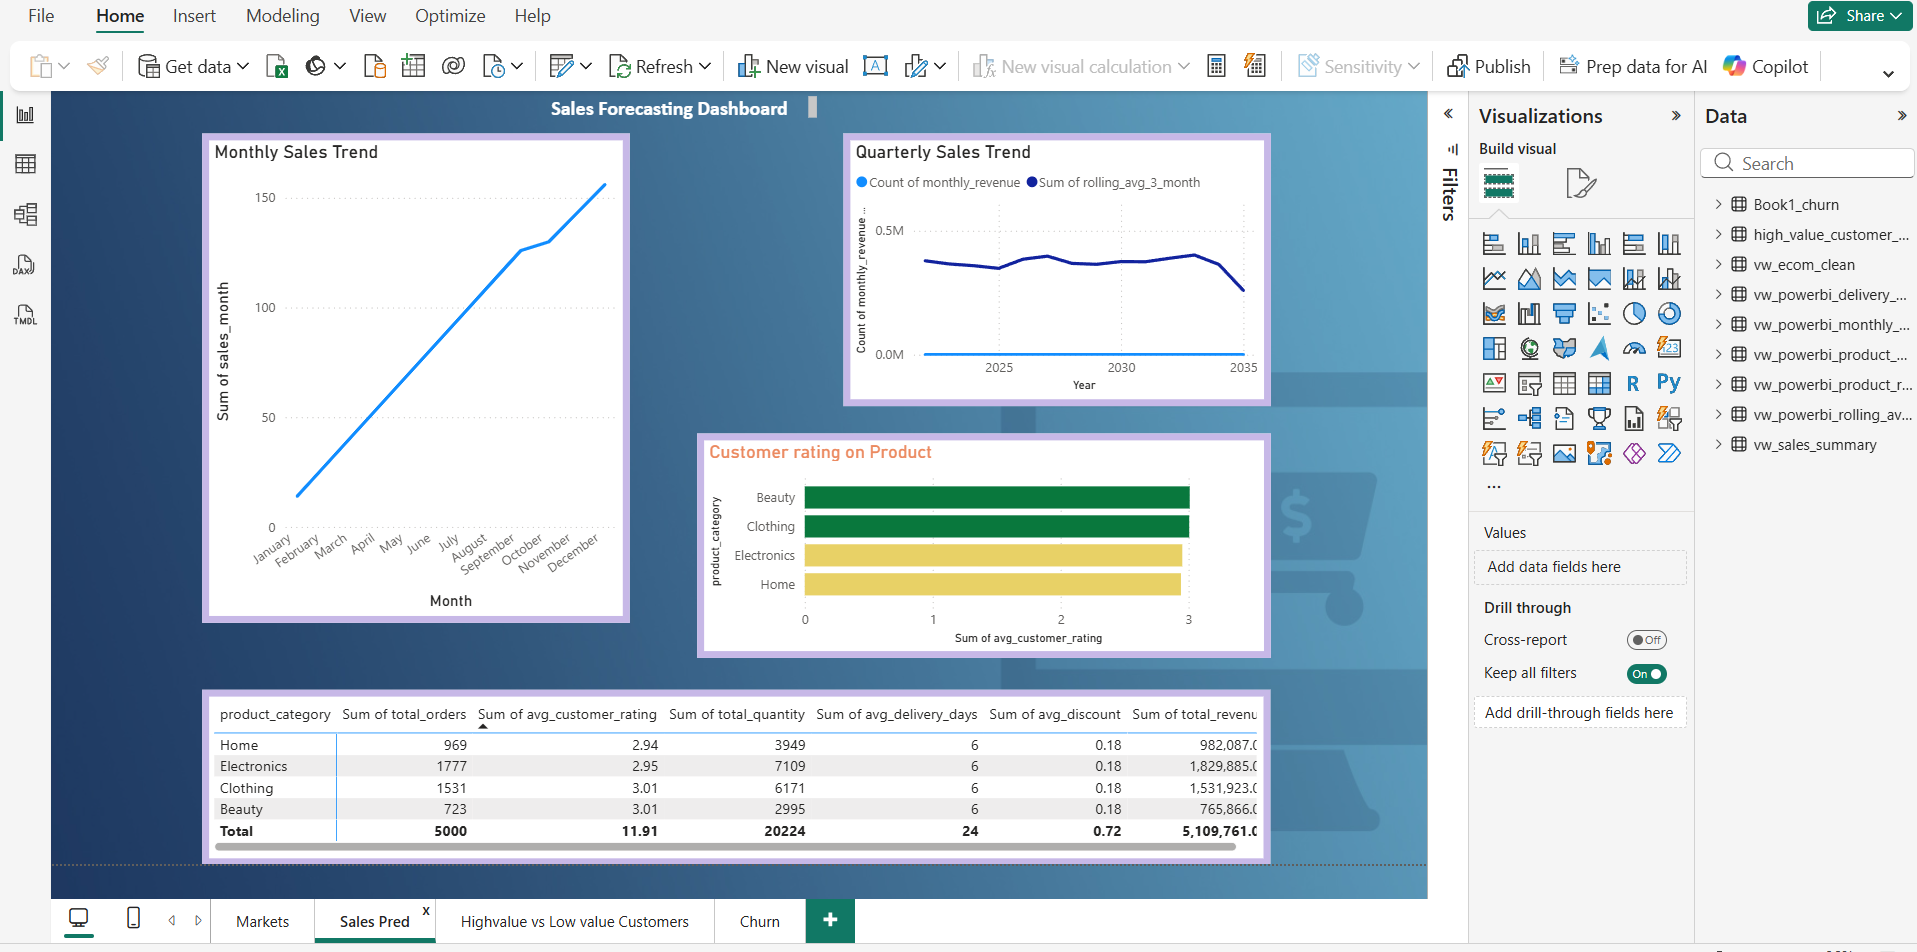

The dashboard page shown, as its layout file describes it:
{"tool":"powerbi","page":{"name":"Sales Pred","canvas":[1280,720],"ordinal":1},"visuals":[{"type":"lineChart","title":"Monthly Sales Trend","fields":{"Category":["vw_powerbi_monthly_revenue.month_start_date.Variation.Date Hierarchy.Month"],"Y":["Sum(vw_powerbi_monthly_revenue.sales_month)"]},"box":[141.1,40,397.8,455.6],"z":0},{"type":"lineChart","title":"Quarterly Sales Trend","fields":{"Category":["vw_powerbi_rolling_average.month_start_date.Variation.Date Hierarchy.Year"],"Y":["CountNonNull(vw_powerbi_rolling_average.monthly_revenue)","Sum(vw_powerbi_rolling_average.rolling_avg_3_month)"]},"box":[736.7,40,397.8,253.3],"z":1000},{"type":"clusteredBarChart","title":"Customer rating on Product","fields":{"Category":["vw_powerbi_product_rating.product_category"],"Y":["Sum(vw_powerbi_product_rating.avg_customer_rating)"]},"box":[601.1,318.9,533.3,208.9],"z":2000},{"type":"pivotTable","fields":{"Rows":["vw_powerbi_product_performance.product_category"],"Values":["Sum(vw_powerbi_product_performance.total_orders)","Sum(vw_powerbi_product_performance.avg_customer_rating)","Sum(vw_powerbi_product_performance.total_quantity)","Sum(vw_powerbi_product_performance.avg_delivery_days)","Sum(vw_powerbi_product_performance.avg_discount)","Sum(vw_powerbi_product_performance.total_revenue)"]},"box":[141.1,556.7,993.3,163.3],"z":3000},{"type":"textbox","box":[460,0,256.7,31.1],"z":4000}]}

Visuals, with their boxes on the page's 1280x720 design canvas (x1, y1, x2, y2). These are canvas units, not pixel positions in the 1917x952 screenshot, which may show the page scaled, cropped or inside an application window:
"Monthly Sales Trend" lineChart: bbox=[141, 40, 539, 496]
"Quarterly Sales Trend" lineChart: bbox=[737, 40, 1134, 293]
"Customer rating on Product" clusteredBarChart: bbox=[601, 319, 1134, 528]
pivotTable - vw_powerbi_product_performance.product_category x Sum(vw_powerbi_product_performance.total_orders): bbox=[141, 557, 1134, 720]
textbox: bbox=[460, 0, 717, 31]
